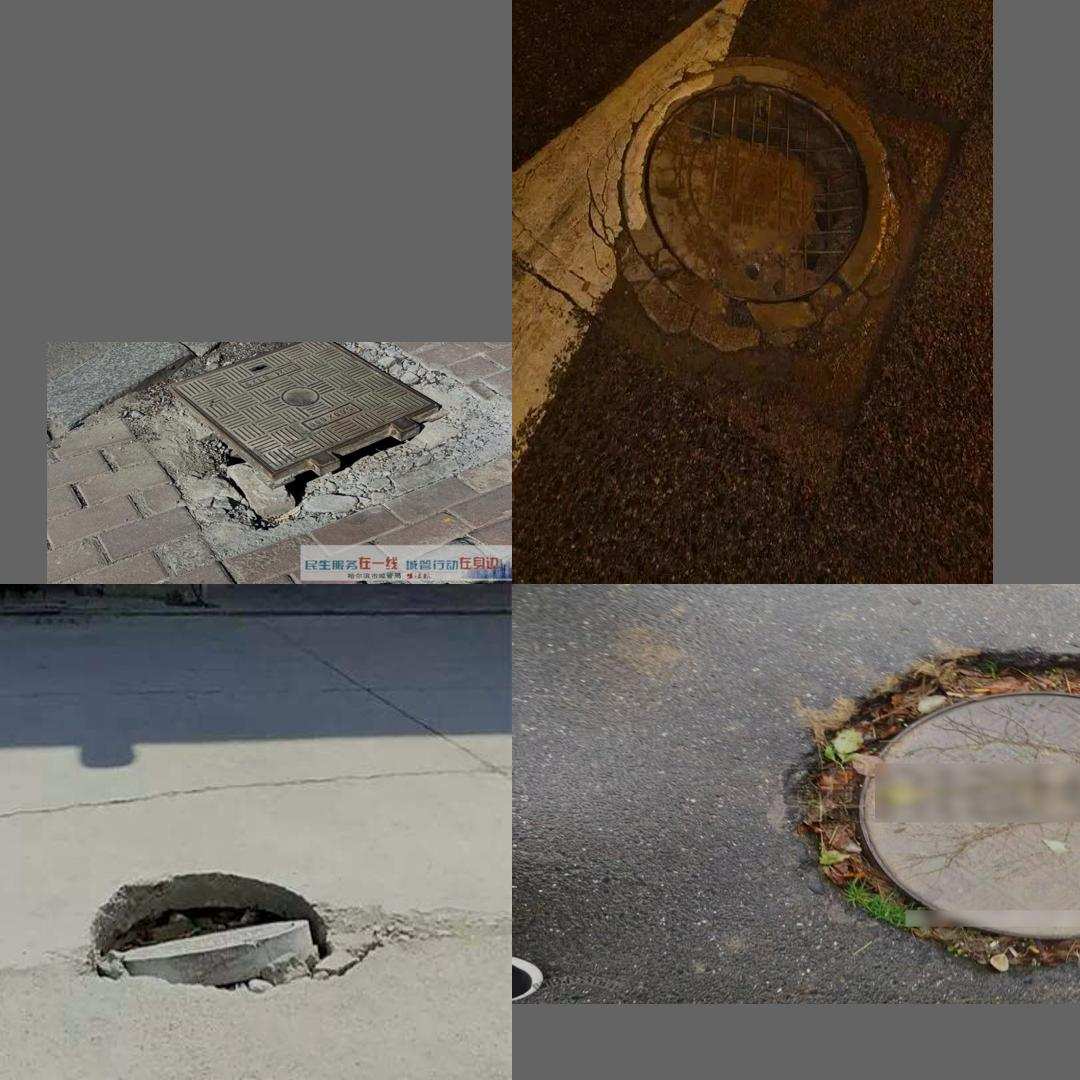circle: (546, 27, 947, 428), (783, 652, 1080, 967), (122, 345, 507, 535), (61, 854, 415, 1028)
